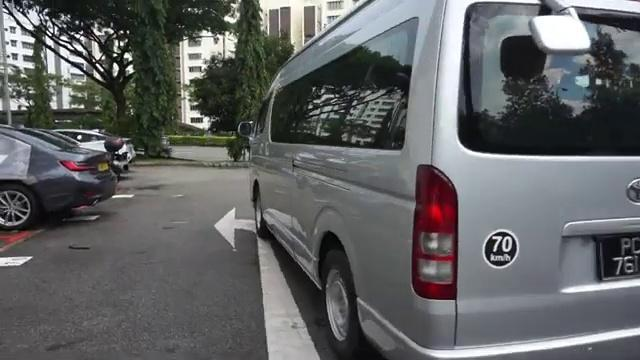van: (241, 0, 640, 349)
